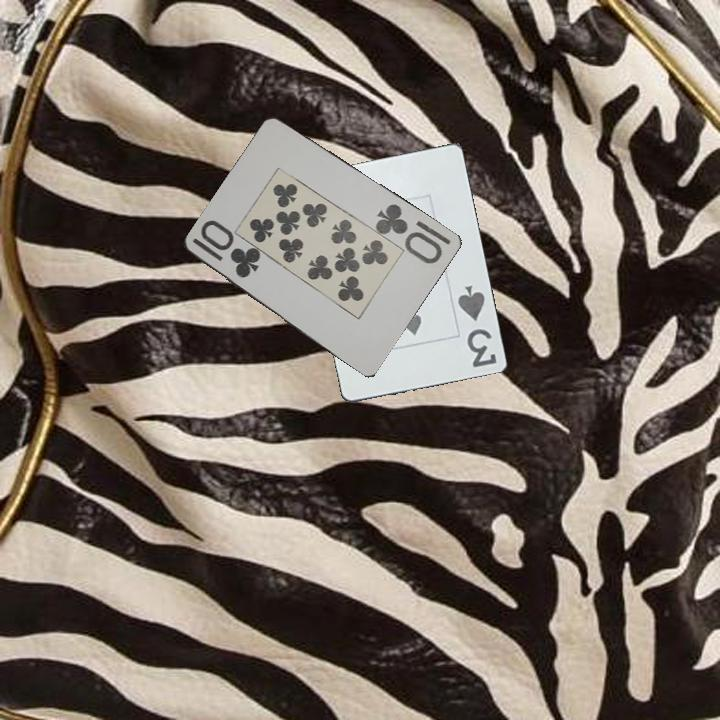3s: (454, 281, 499, 370)
Tc: (371, 200, 454, 267), (188, 218, 262, 281)
